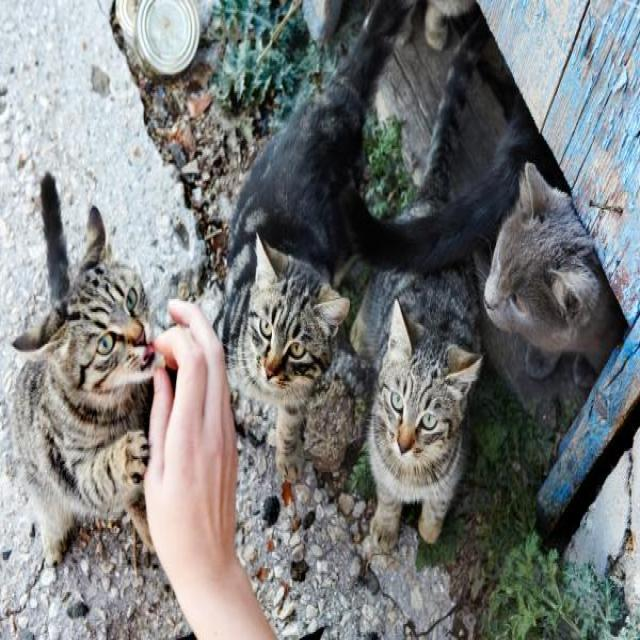cat: (216, 4, 406, 478), (12, 172, 155, 563), (346, 41, 570, 271), (474, 163, 626, 417), (352, 268, 482, 552)
